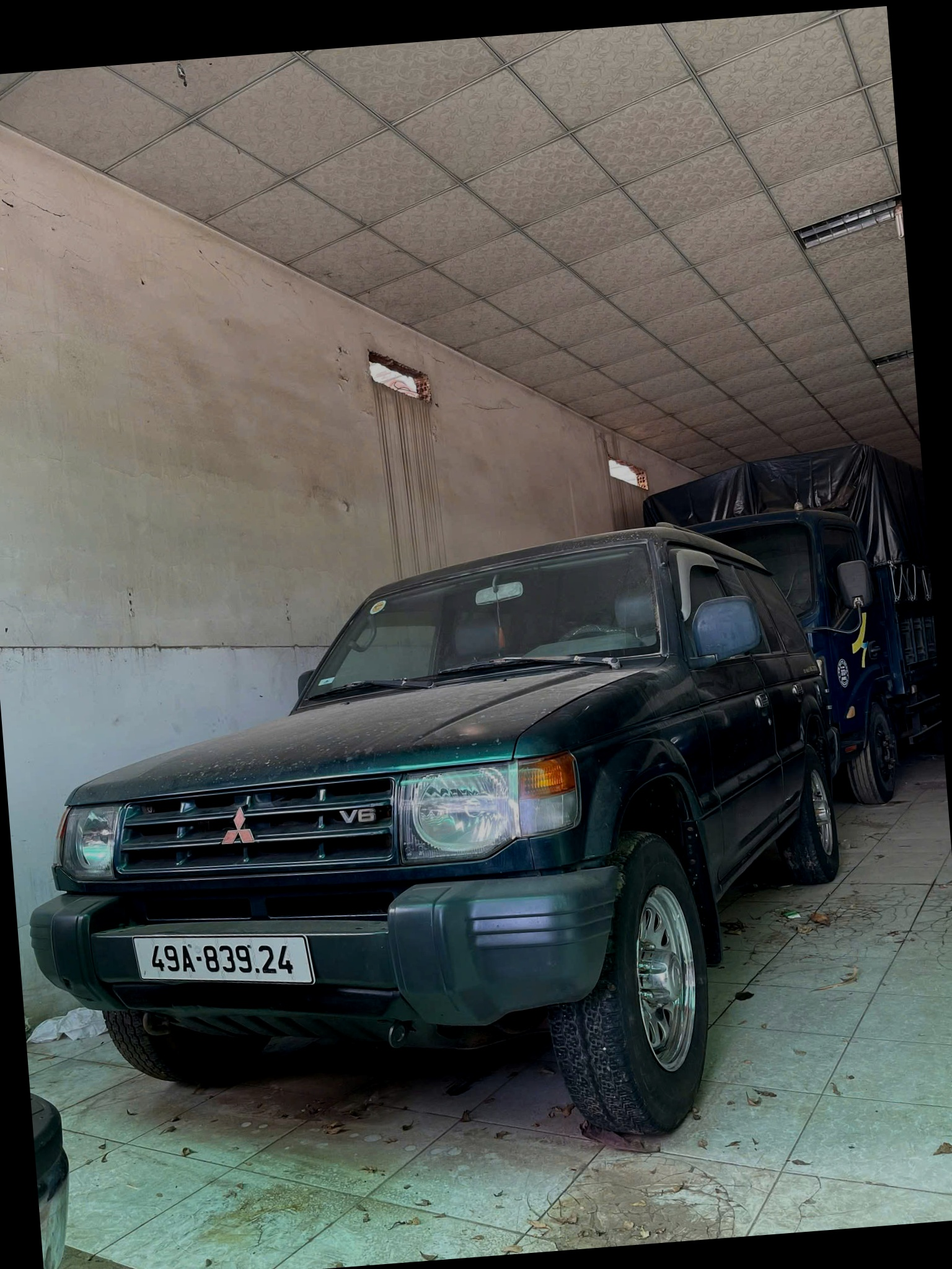Bien-so: (114, 909, 286, 974)
